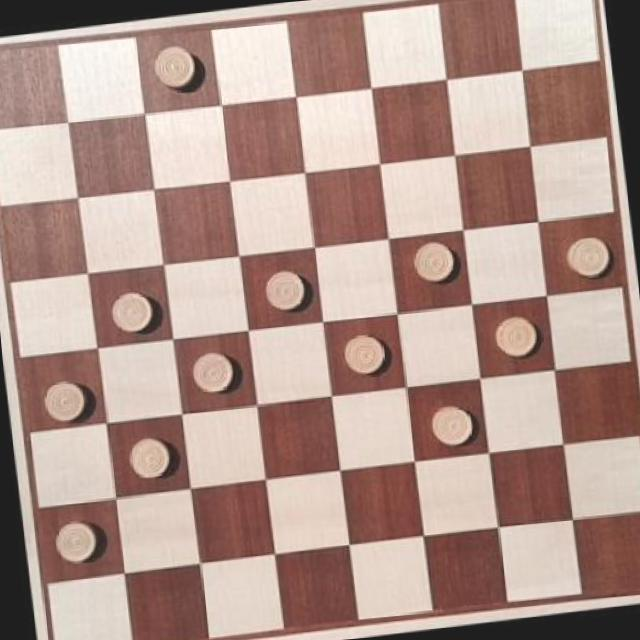BOARD: (0, 0, 640, 640)
white: (150, 37, 202, 95), (38, 374, 92, 424), (48, 514, 98, 568), (488, 310, 542, 360), (426, 400, 476, 452), (188, 345, 237, 397), (258, 262, 307, 314), (559, 231, 611, 280), (340, 328, 388, 378), (410, 235, 456, 285), (128, 435, 172, 483), (106, 289, 152, 334)
